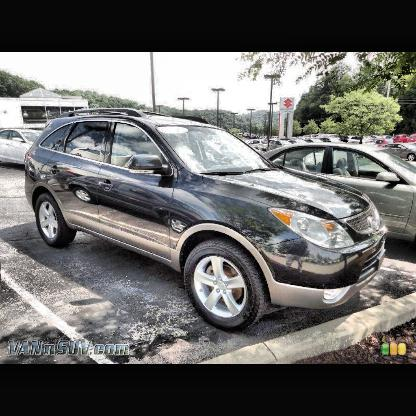Hyundai Veracruz SUV 2012: (24, 107, 388, 332)
